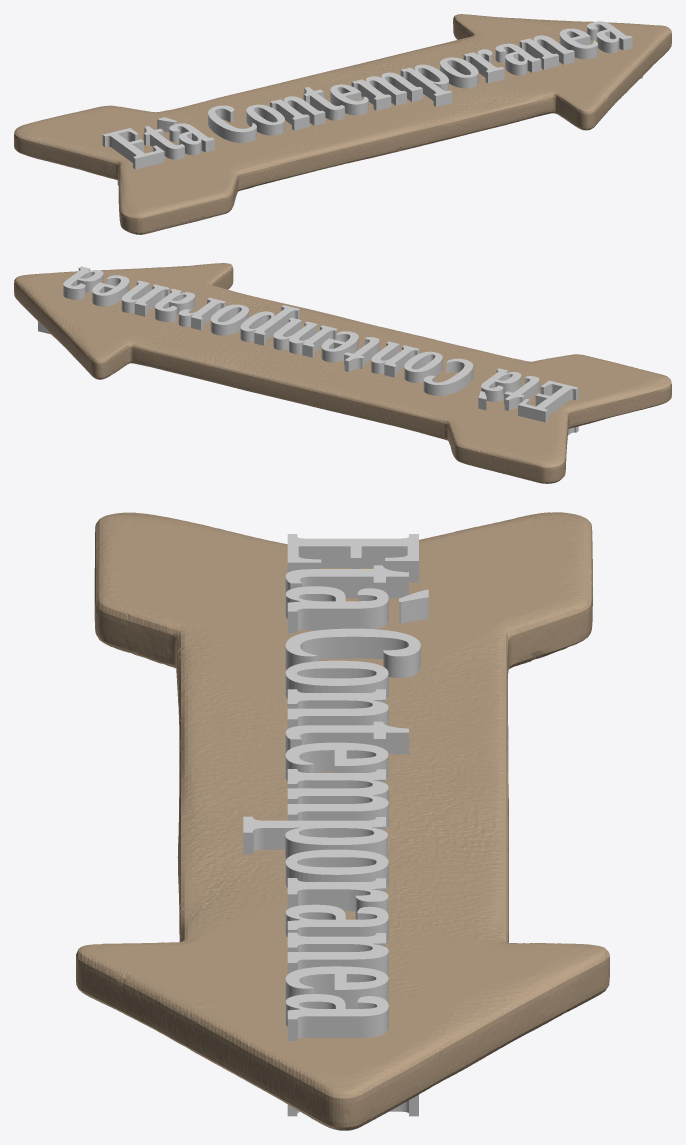
File: Cartello Età Contemporanea.glb
3 renders of one model, top to bottom at view 1: azimuth 30°, elevation 25°; view 2: azimuth 150°, elevation 25°; view 3: azimuth 270°, elevation 25°, orthographic. The views are drawn at different scales.
Parts seen in each view (by area): view 1: Mesh_Mesh_head_geo.001_lambert2SG.001; view 2: Mesh_Mesh_head_geo.001_lambert2SG.001; view 3: Mesh_Mesh_head_geo.001_lambert2SG.001.
Boxes of the visible parts, <box> form: Mesh_Mesh_head_geo.001_lambert2SG.001: <box>14,14,671,234</box>; Mesh_Mesh_head_geo.001_lambert2SG.001: <box>14,263,671,483</box>; Mesh_Mesh_head_geo.001_lambert2SG.001: <box>76,512,609,1130</box>.
Size of the model in its own units: 0.058 by 0.004 by 0.0223.
